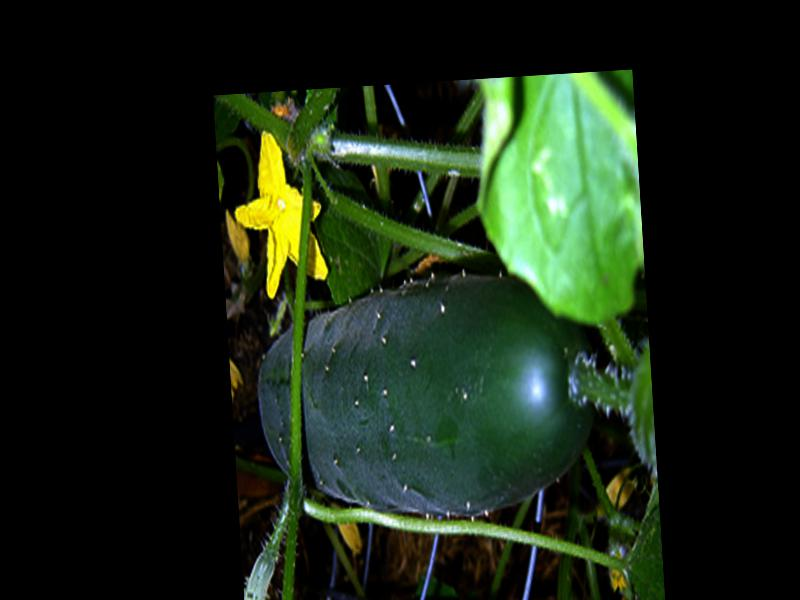Cucumber: (254, 266, 607, 526)
